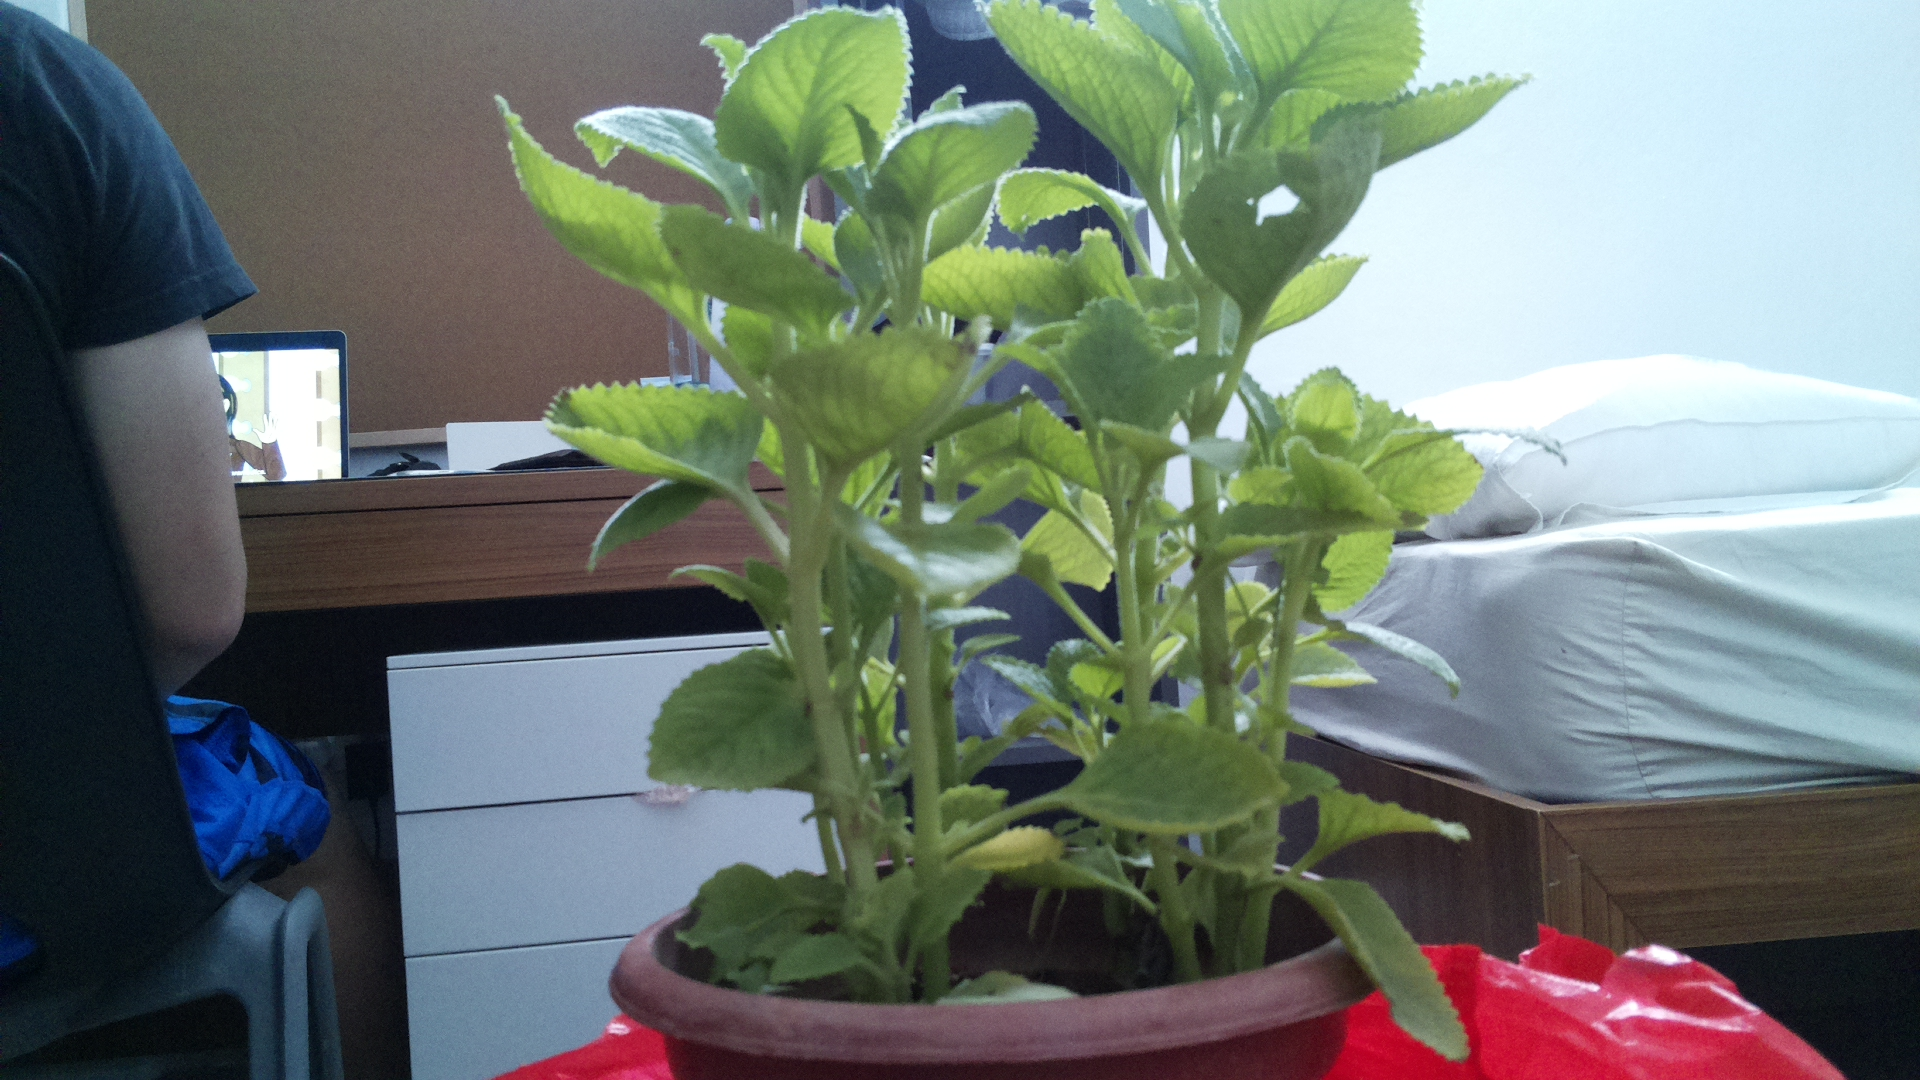leaf: (467, 82, 694, 299), (1184, 131, 1393, 339), (1280, 858, 1487, 1062), (723, 1, 931, 190), (981, 7, 1179, 194), (1068, 715, 1296, 837), (625, 647, 832, 782), (818, 481, 1029, 611), (1222, 1, 1423, 123), (555, 378, 764, 495), (769, 330, 971, 447), (920, 231, 1127, 338), (1356, 406, 1565, 487), (1305, 601, 1466, 703), (683, 858, 855, 945)
